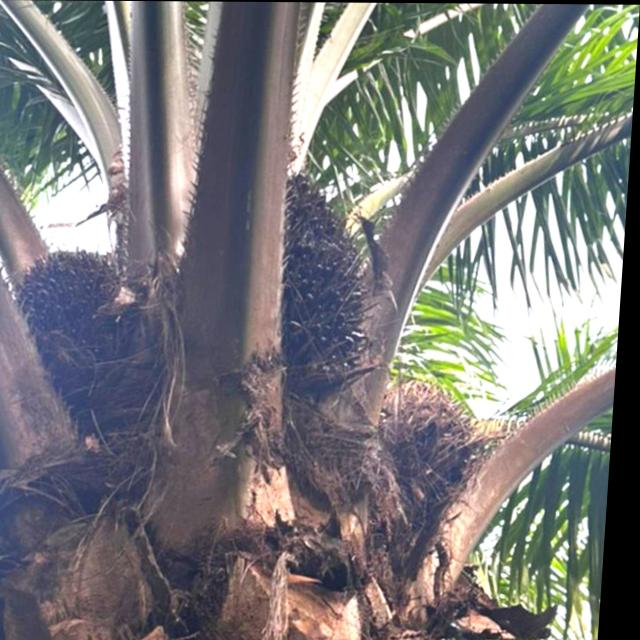almost: (252, 163, 403, 400)
